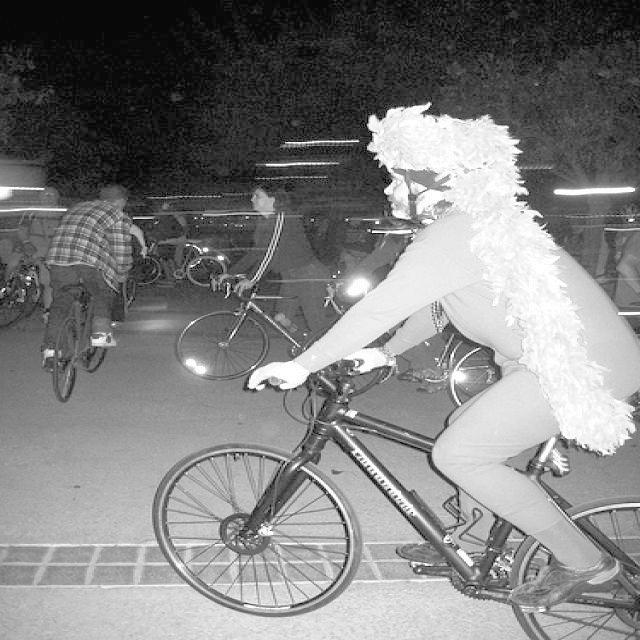Bicycle: (140, 366, 640, 640), (184, 278, 389, 384), (52, 288, 130, 395)
Person: (241, 99, 640, 428), (208, 180, 330, 343), (47, 182, 134, 385)
